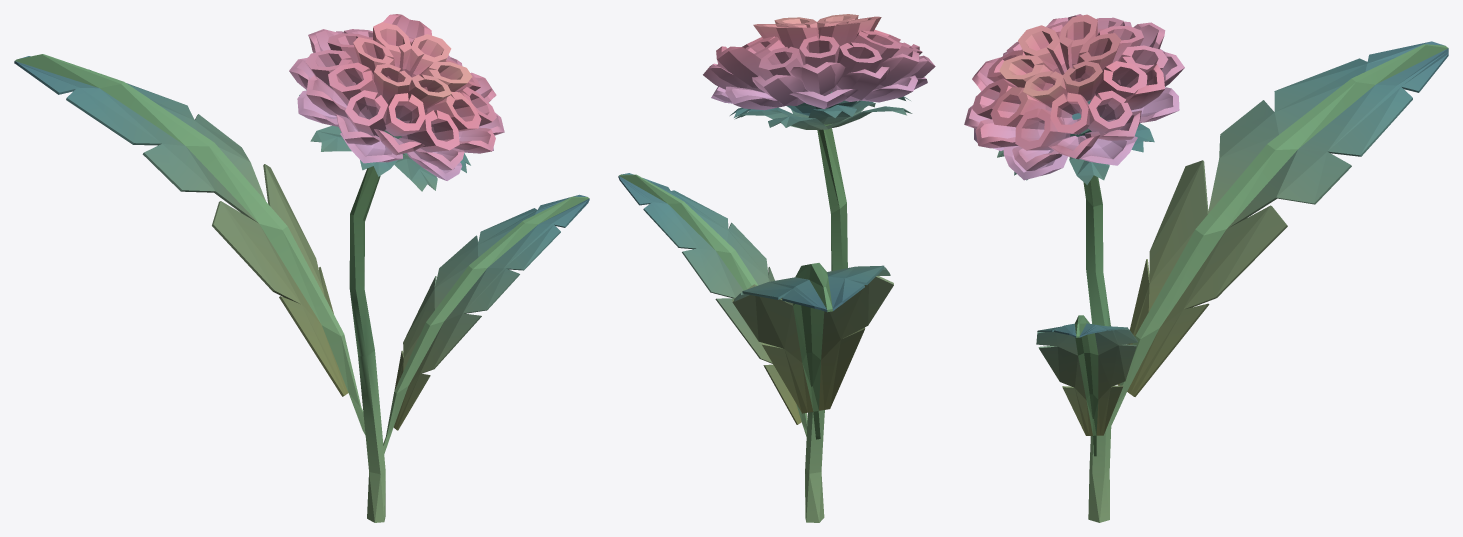
Rendered from Dahlia_Type01_Pink.fbx.
The picture shows the model from 3 angles, left to right: view 1: azimuth 30°, elevation 25°; view 2: azimuth 150°, elevation 25°; view 3: azimuth 270°, elevation 25°; orthographic projection. The views are drawn at different scales.
Parts seen in each view (by area): view 1: Dahlia_Type01_Pink; view 2: Dahlia_Type01_Pink; view 3: Dahlia_Type01_Pink.
Boxes of the visible parts, x1,y1,x2,y2 form: Dahlia_Type01_Pink: (14, 14, 589, 522); Dahlia_Type01_Pink: (618, 14, 935, 522); Dahlia_Type01_Pink: (964, 14, 1448, 522).
Size of the model in its own units: 35.05 by 41.35 by 37.09.
